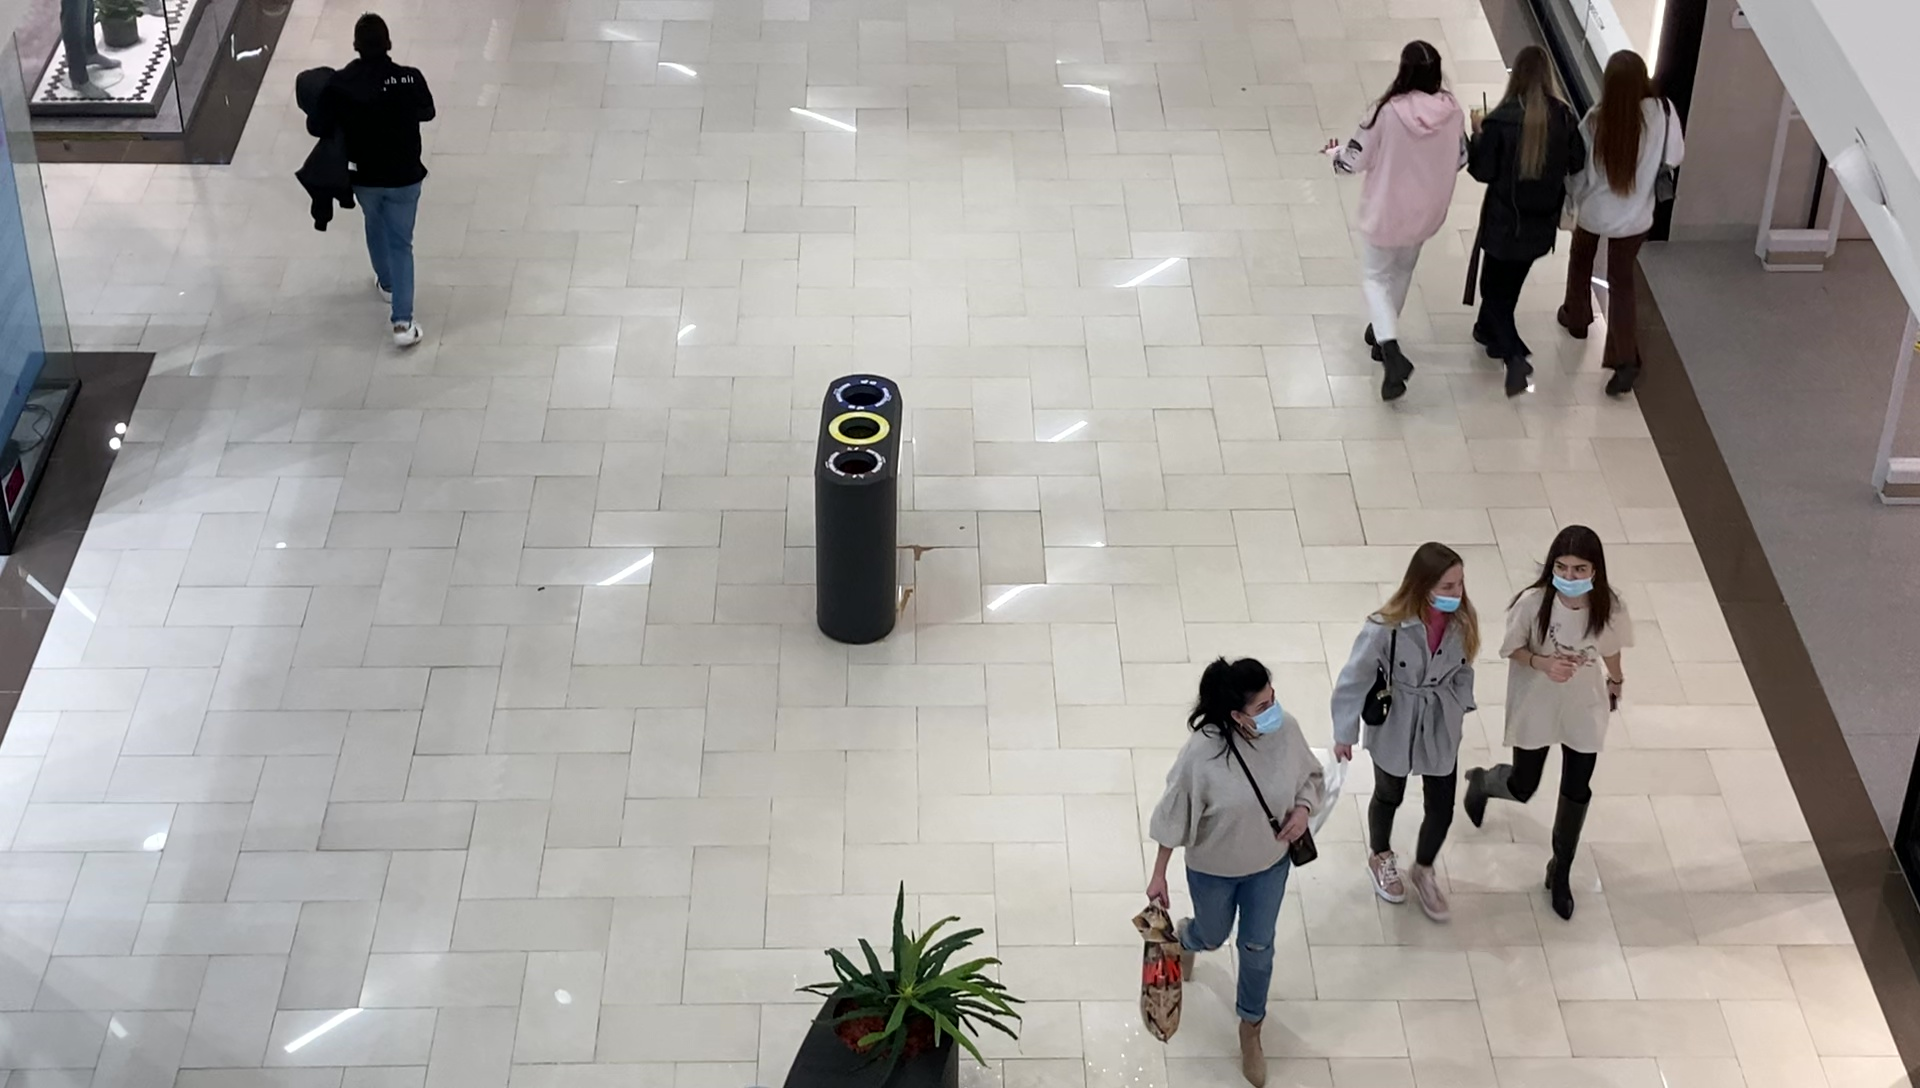person: (1149, 657, 1327, 1088), (1466, 525, 1637, 924), (1331, 541, 1476, 925), (1319, 40, 1469, 401), (303, 13, 437, 350), (1466, 43, 1580, 393), (1574, 48, 1687, 395)
